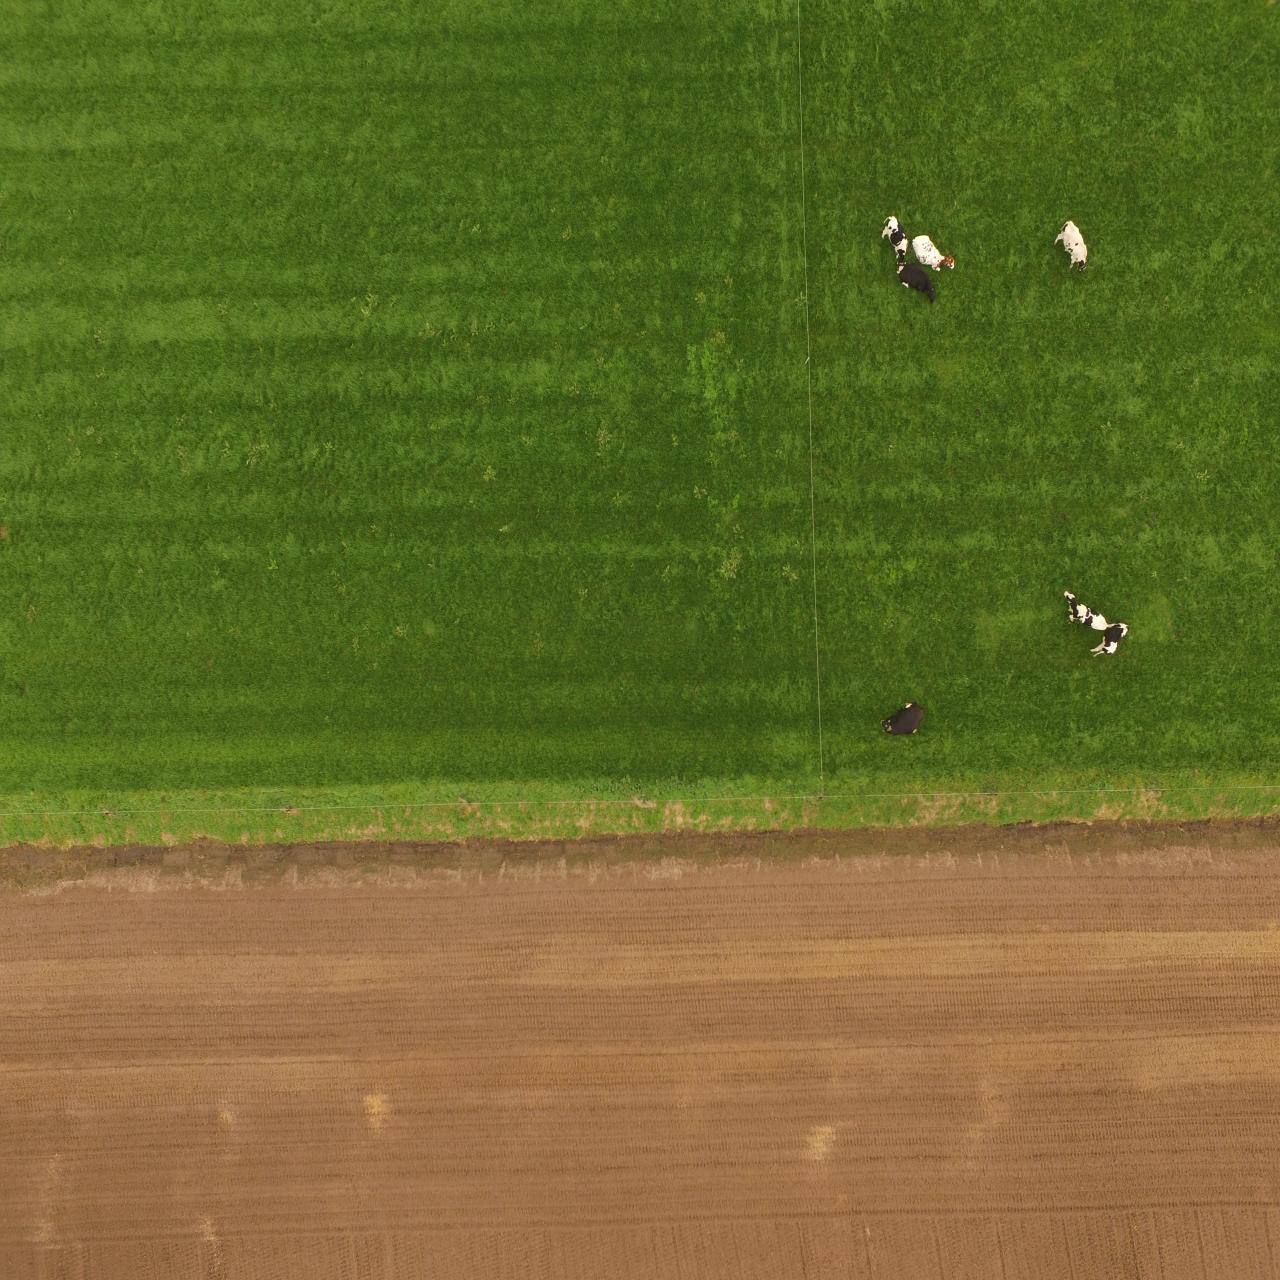cow: (1063, 588, 1117, 640), (1056, 211, 1092, 275), (877, 701, 928, 737), (898, 263, 938, 308), (912, 231, 960, 267), (1098, 620, 1137, 660), (878, 211, 908, 257)
